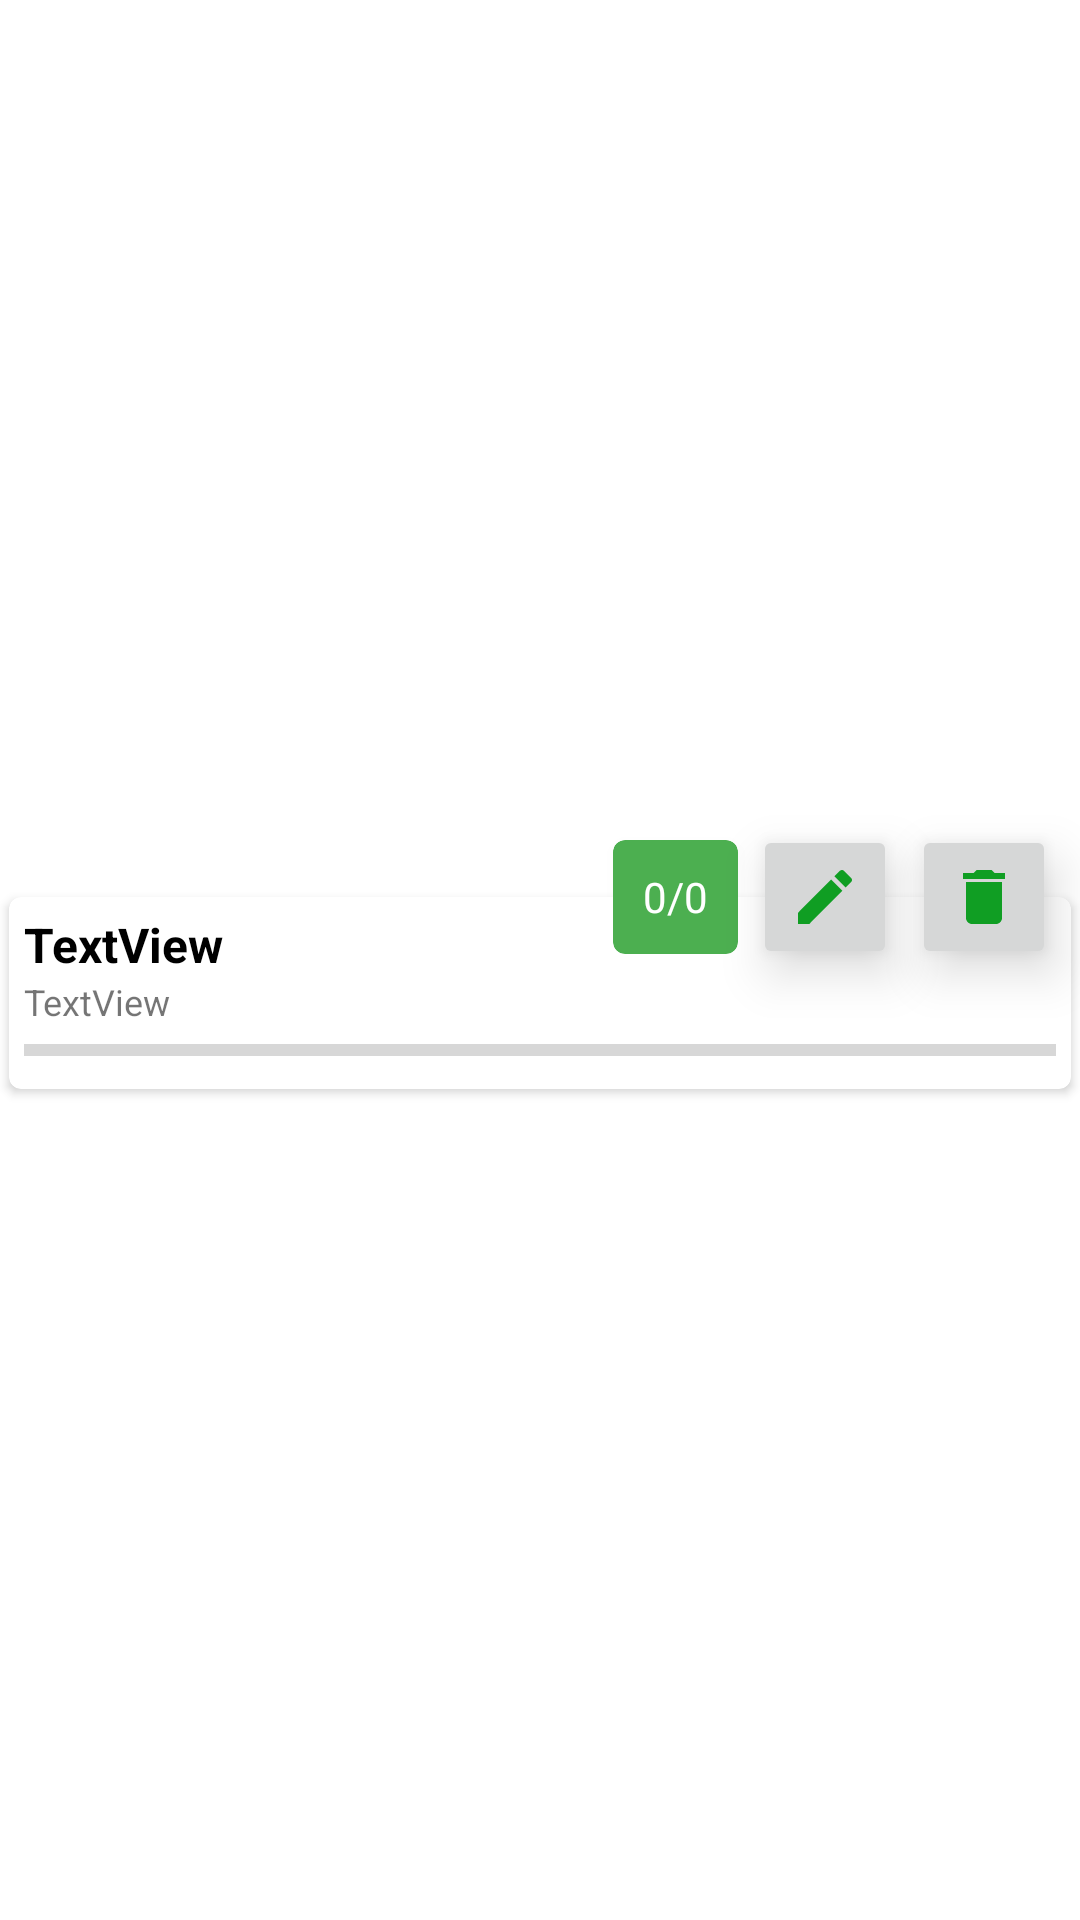

Icons on this 1080 × 1920 Android screen, each with the point to tap as point (x, y):
delete list: point (984, 897)
edit list: point (828, 901)
